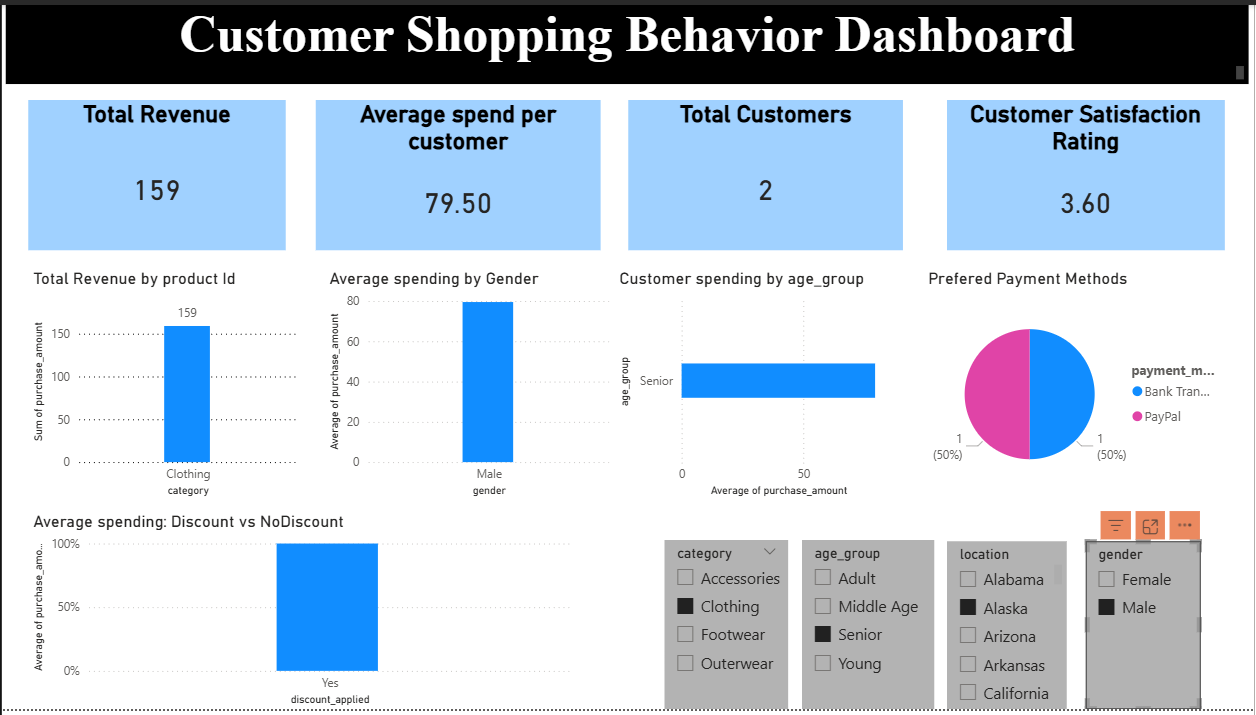

The page's visual inventory and layout, read from the dashboard file:
{"tool":"powerbi","page":{"name":"Project_01","canvas":[1280,720],"ordinal":0},"visuals":[{"type":"textbox","title":"Customer  Shopping Behavior Dashboard","box":[4.1,0,1270.7,81],"z":0},{"type":"card","title":"Total Revenue","fields":{"Values":["Sum(customer_data.purchase_amount)"]},"box":[26.8,97.1,263.2,153.3],"z":1000},{"type":"card","title":"Average spend per customer","fields":{"Values":["Avg(customer_data.purchase_amount)"]},"box":[320.7,97.1,291.3,153.3],"z":2000},{"type":"card","title":"Total Customers","fields":{"Values":["CountNonNull(customer_data.customer_id)"]},"box":[640.1,97.1,281.1,153.3],"z":3000},{"type":"card","title":"Customer Satisfaction Rating","fields":{"Values":["Avg(customer_data.review_rating)"]},"box":[965.9,97.1,283.7,153.3],"z":4000},{"type":"columnChart","title":"Total Revenue by product Id","fields":{"Category":["customer_data.category"],"Y":["Sum(customer_data.purchase_amount)"]},"box":[26.8,269.6,279.8,237.7],"z":5000},{"type":"columnChart","title":"Average spending by Gender","fields":{"Category":["customer_data.gender"],"Y":["Avg(customer_data.purchase_amount)"]},"box":[329.6,269.6,296.4,237.7],"z":6000},{"type":"barChart","title":"Customer spending by age_group","fields":{"Category":["customer_data.age_group"],"Y":["Avg(customer_data.purchase_amount)"]},"box":[626.1,269.6,279.8,237.7],"z":7000},{"type":"pieChart","title":"Prefered Payment Methods","fields":{"Category":["customer_data.payment_method"],"Y":["CountNonNull(customer_data.customer_id)"]},"box":[941.7,269.6,307.9,237.7],"z":8000},{"type":"hundredPercentStackedColumnChart","title":"Average spending: Discount vs NoDiscount","fields":{"Category":["customer_data.discount_applied"],"Y":["Avg(customer_data.purchase_amount)"]},"box":[26.8,517.5,559.6,203.2],"z":9000},{"type":"slicer","fields":{"Values":["customer_data.gender"]},"box":[1107.8,548.1,117.5,172.5],"z":10000},{"type":"slicer","fields":{"Values":["customer_data.category"]},"box":[677.2,546.9,126.5,172.5],"z":11000},{"type":"slicer","fields":{"Values":["customer_data.age_group"]},"box":[817.7,546.9,135.4,172.5],"z":12000},{"type":"slicer","fields":{"Values":["customer_data.location"]},"box":[965.9,548.1,122.7,172.5],"z":13000}]}

Visuals, with their boxes in screenshot pixels (x1, y1, x2, y2), scaled from the page's 1280x720 canvas onto the 1256x715 screenshot:
"Customer  Shopping Behavior Dashboard" textbox: (4, 0, 1251, 80)
"Total Revenue" card: (26, 96, 285, 249)
"Average spend per customer" card: (315, 96, 601, 249)
"Total Customers" card: (628, 96, 904, 249)
"Customer Satisfaction Rating" card: (948, 96, 1226, 249)
"Total Revenue by product Id" columnChart: (26, 268, 301, 504)
"Average spending by Gender" columnChart: (323, 268, 614, 504)
"Customer spending by age_group" barChart: (614, 268, 889, 504)
"Prefered Payment Methods" pieChart: (924, 268, 1226, 504)
"Average spending: Discount vs NoDiscount" hundredPercentStackedColumnChart: (26, 514, 575, 714)
slicer - customer_data.gender: (1087, 544, 1202, 714)
slicer - customer_data.category: (665, 543, 789, 714)
slicer - customer_data.age_group: (802, 543, 935, 714)
slicer - customer_data.location: (948, 544, 1068, 714)
